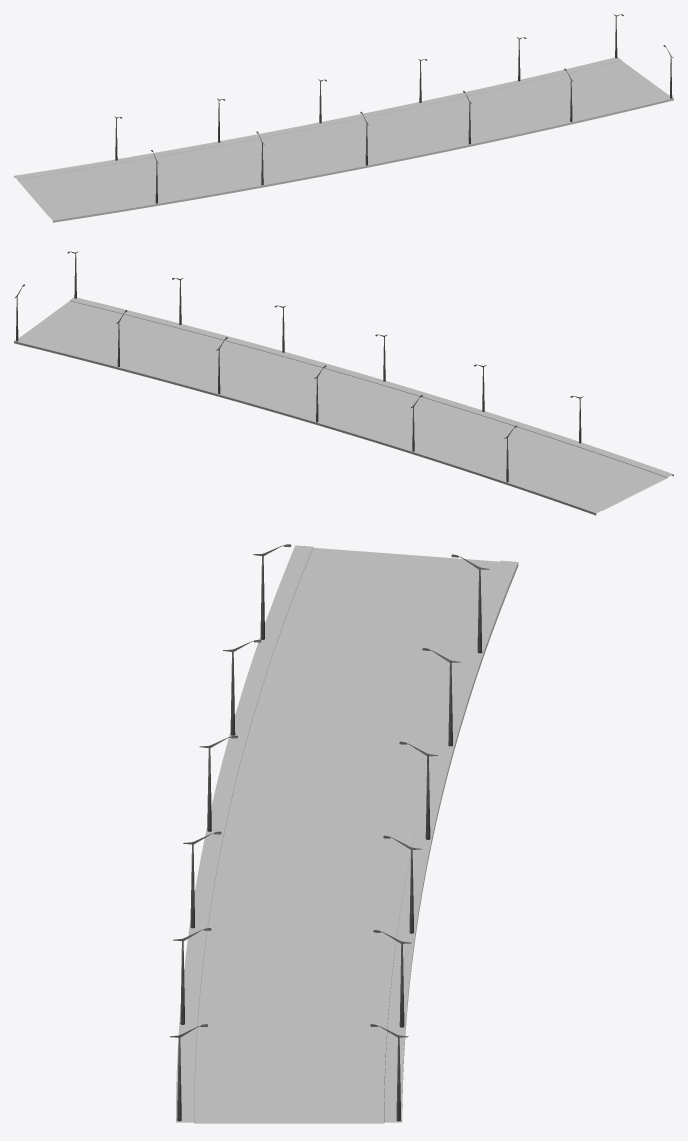
Rendered from Big_Road_10.FBX.
The picture shows the model from 3 angles, top to bottom: view 1: azimuth 30°, elevation 25°; view 2: azimuth 150°, elevation 25°; view 3: azimuth 270°, elevation 25°; orthographic projection. The views are drawn at different scales.
Parts seen in each view (by area): view 1: Big_Road_10, city_light001; view 2: Big_Road_10, city_light001; view 3: Big_Road_10, city_light001.
Boxes of the visible parts, <box> form: Big_Road_10: <box>14,57,673,222</box>; city_light001: <box>114,14,673,203</box>; Big_Road_10: <box>14,297,673,515</box>; city_light001: <box>14,251,583,482</box>; Big_Road_10: <box>176,545,518,1123</box>; city_light001: <box>169,544,489,1121</box>.
Bounding box in the file's own units: 137 × 34.92 × 11.04.
